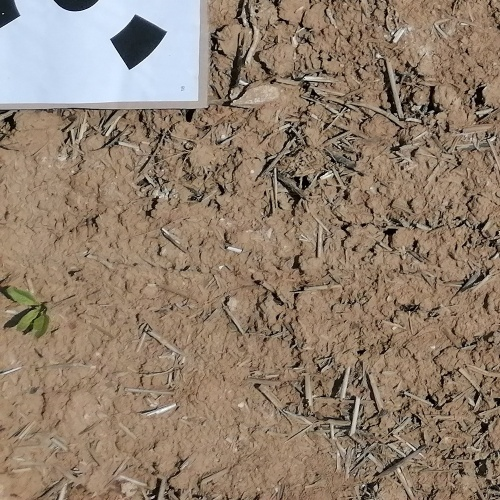beet: (7, 286, 50, 339)
